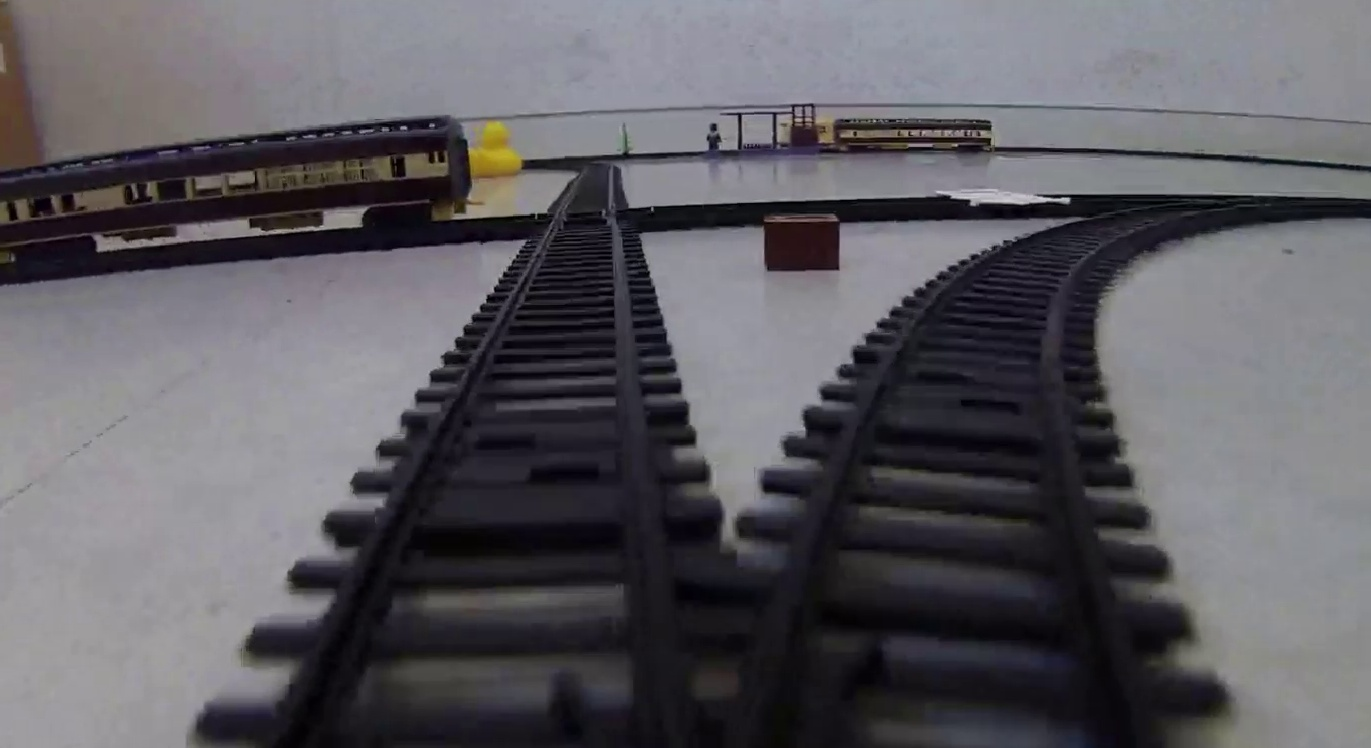box: (766, 215, 839, 271)
web: (936, 185, 1071, 208)
